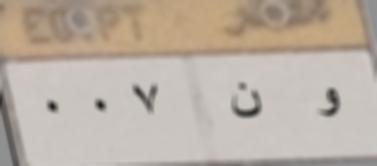0: (42, 97, 62, 122), (92, 93, 109, 115)
7: (127, 80, 164, 117)
noon: (222, 78, 264, 128)
waw: (316, 82, 344, 126)
